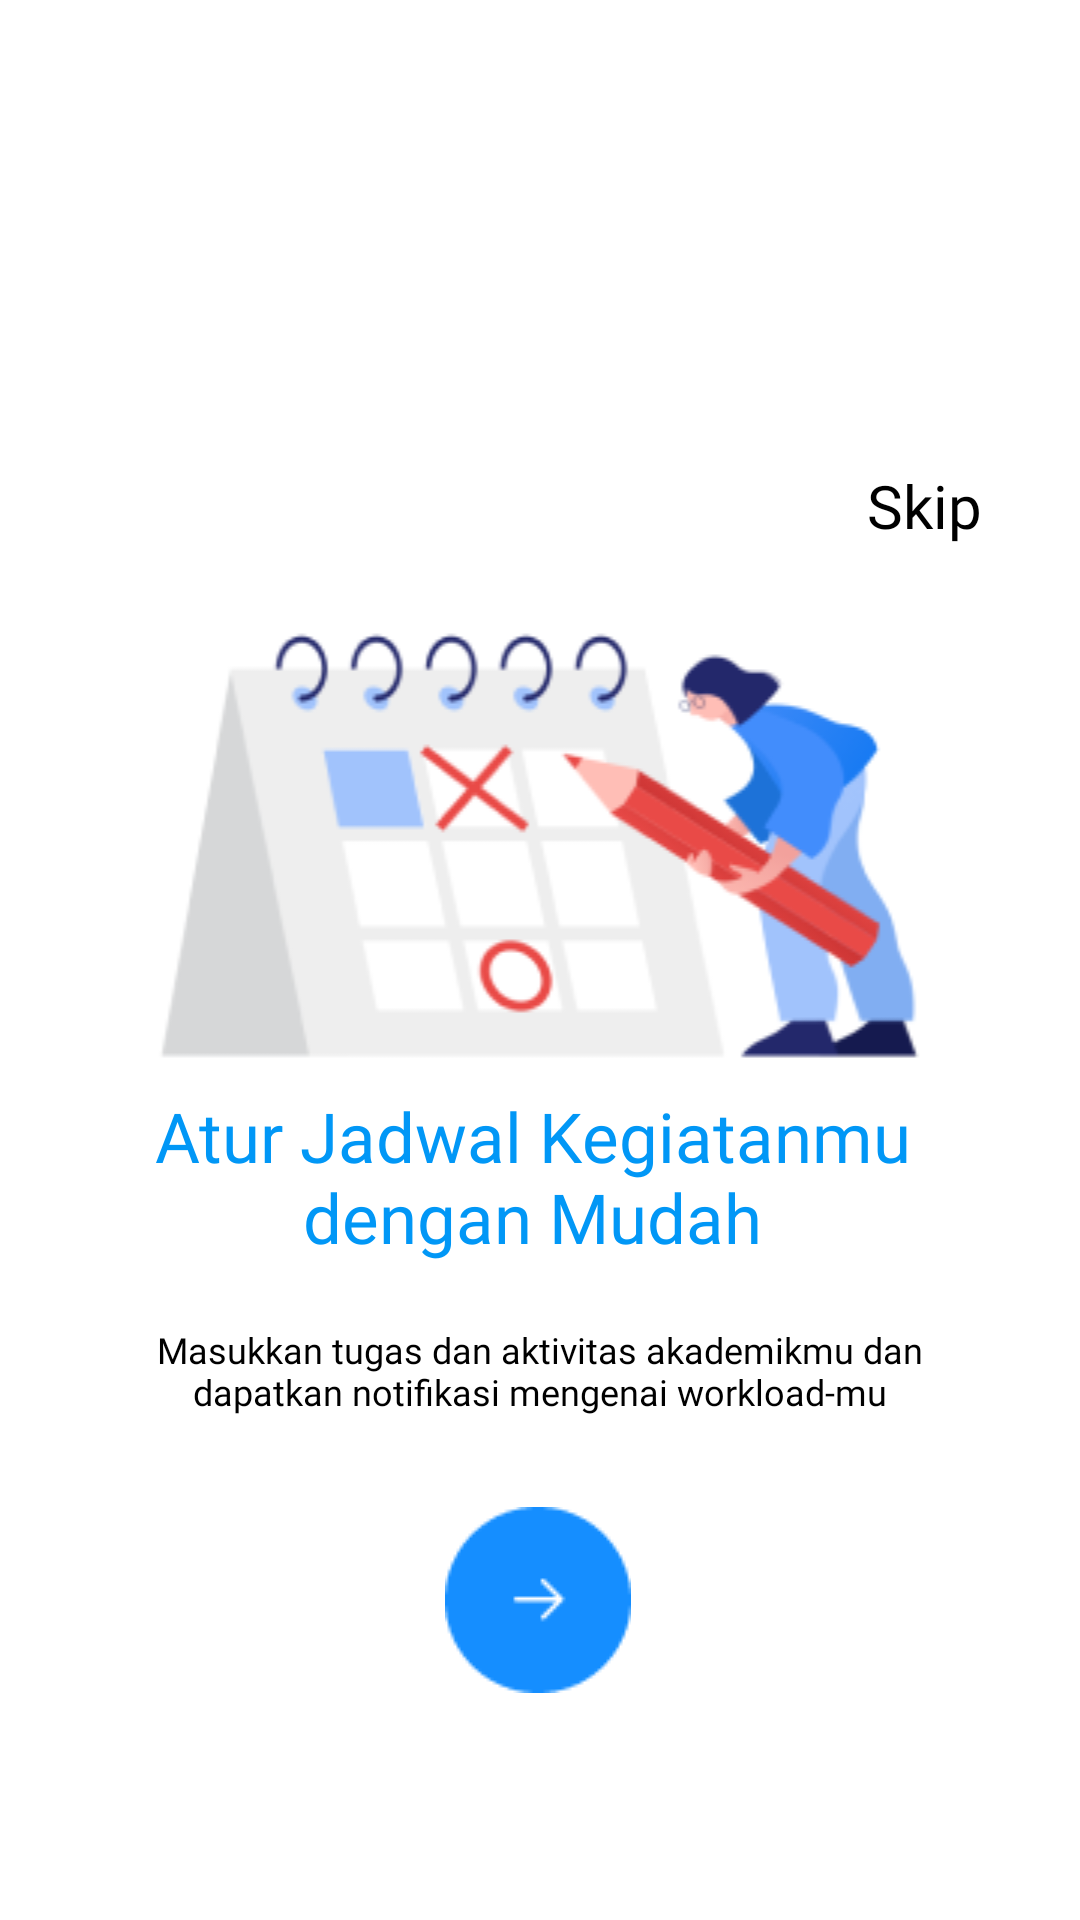

Where to tap for icons on this 1080px×1920px app screen, as [x,y]:
selanjutnya: [538,1600]
